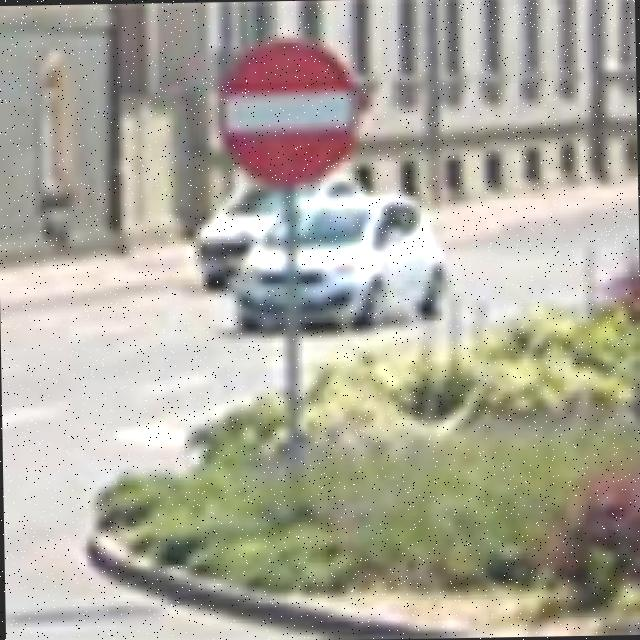Zakaz wjazdu: (213, 33, 362, 190)
